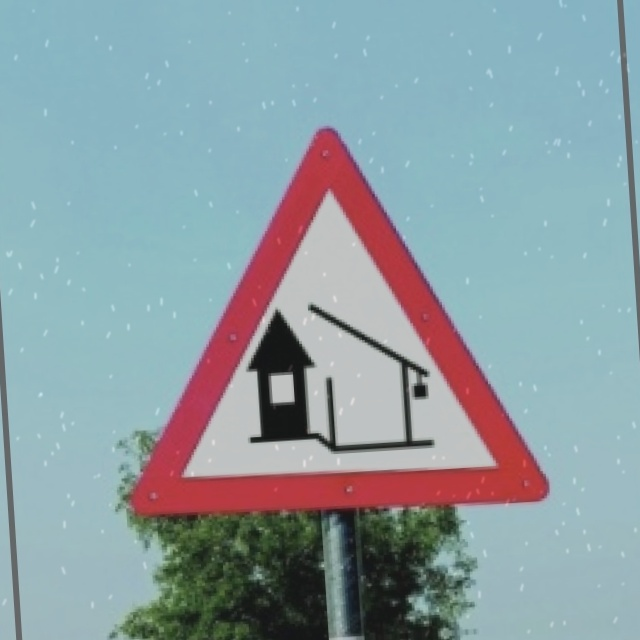Barrier_Ahead: (127, 117, 536, 531)
